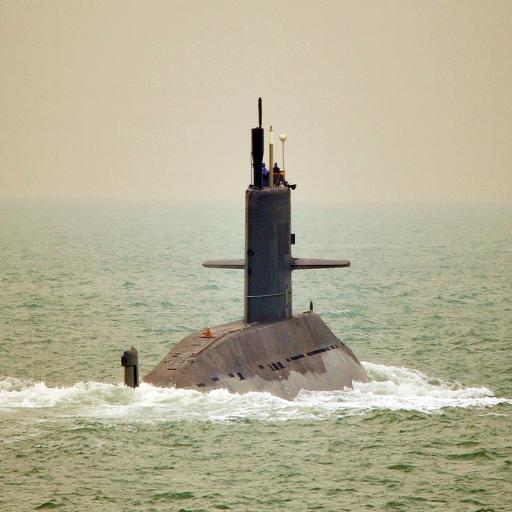submarine: (122, 96, 374, 402)
